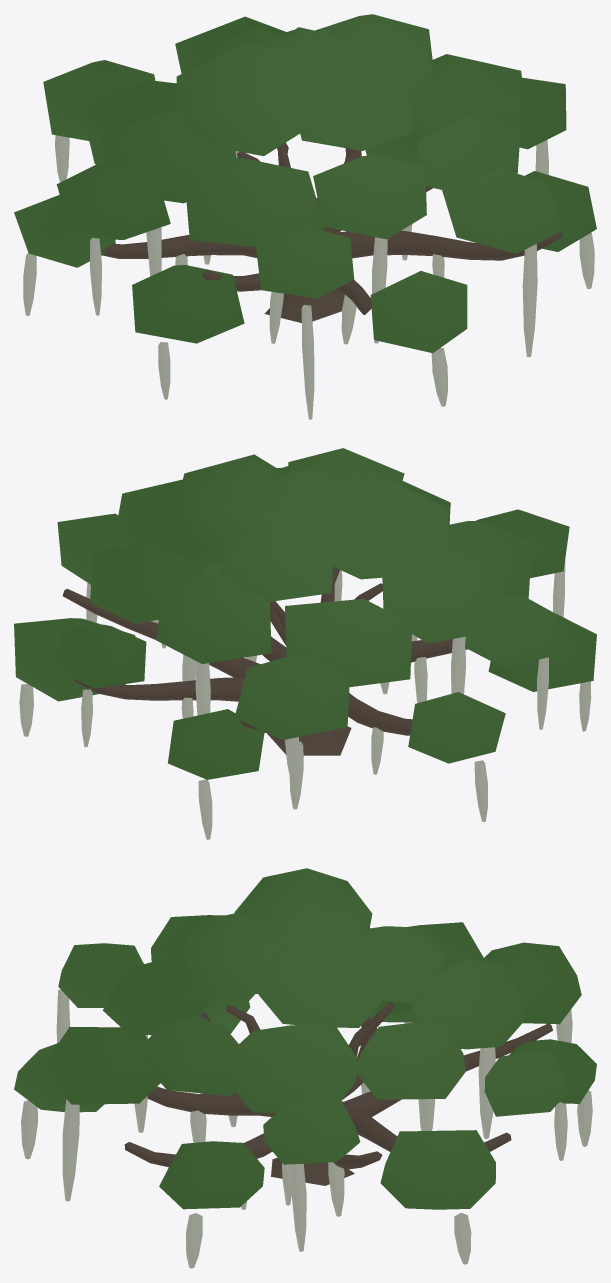
File: Blender_LiveOakMoss_1_Far.glb
3 views of the same model, one above another, from view 1: azimuth 30°, elevation 25°; view 2: azimuth 150°, elevation 25°; view 3: azimuth 270°, elevation 25° (orthographic). The views are drawn at different scales.
Visible parts, largest first — view 1: Blender_LiveOakMoss_1_Far; view 2: Blender_LiveOakMoss_1_Far; view 3: Blender_LiveOakMoss_1_Far.
Part boxes in pixels (x1,y1,x2,y2): Blender_LiveOakMoss_1_Far: [14, 14, 596, 419]; Blender_LiveOakMoss_1_Far: [14, 448, 596, 839]; Blender_LiveOakMoss_1_Far: [14, 868, 596, 1268].
Bounding box in the file's own units: 30.84 × 16.71 × 31.86.
